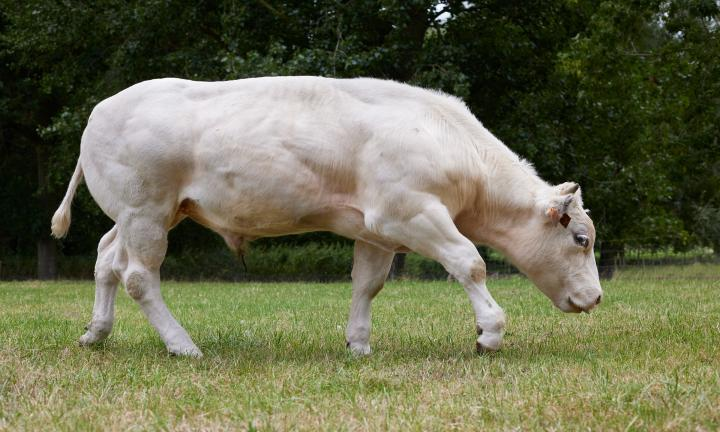Charolais: (52, 76, 602, 355)
